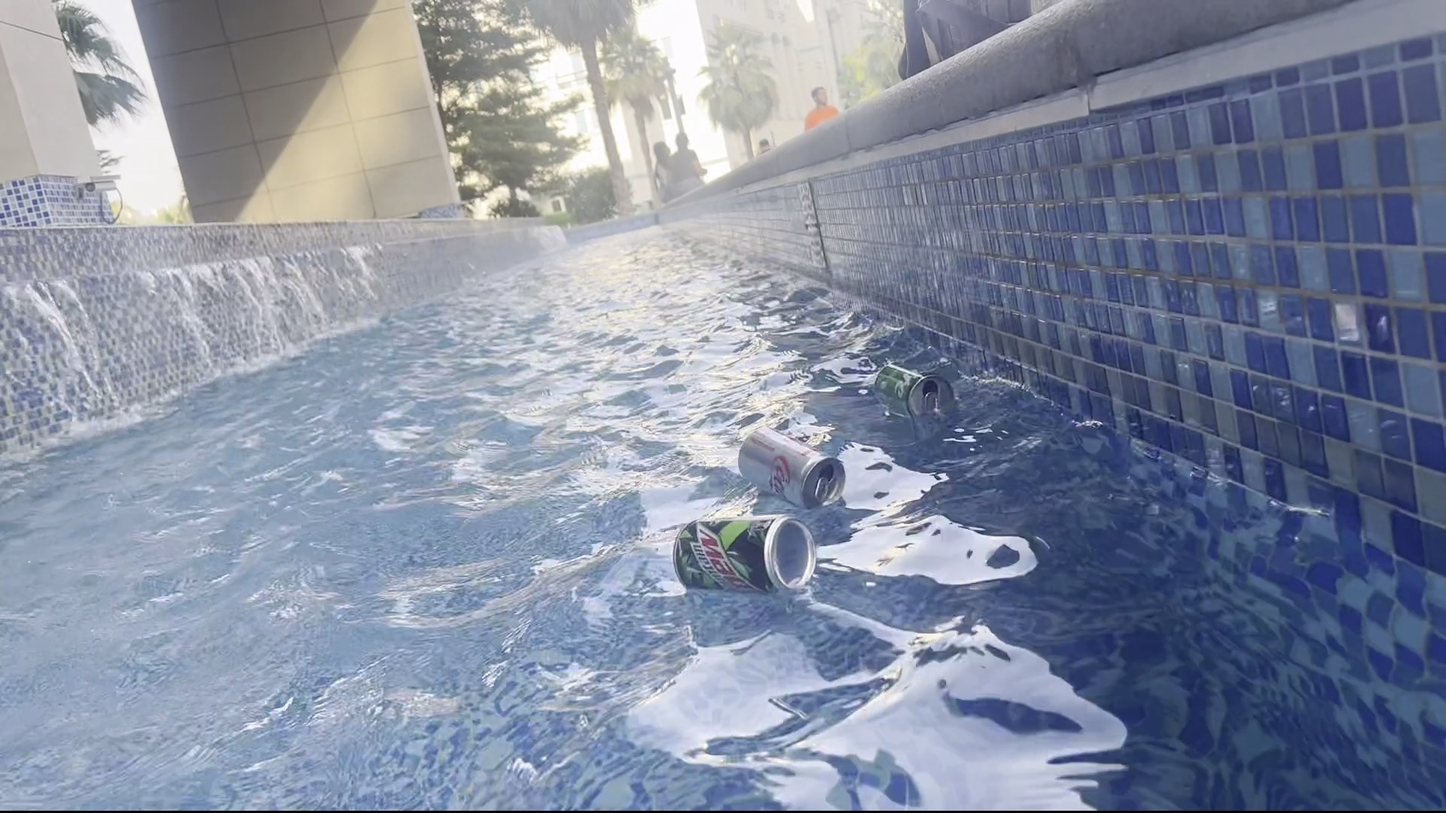debris: (664, 507, 821, 599), (728, 425, 850, 513), (868, 352, 962, 428)
